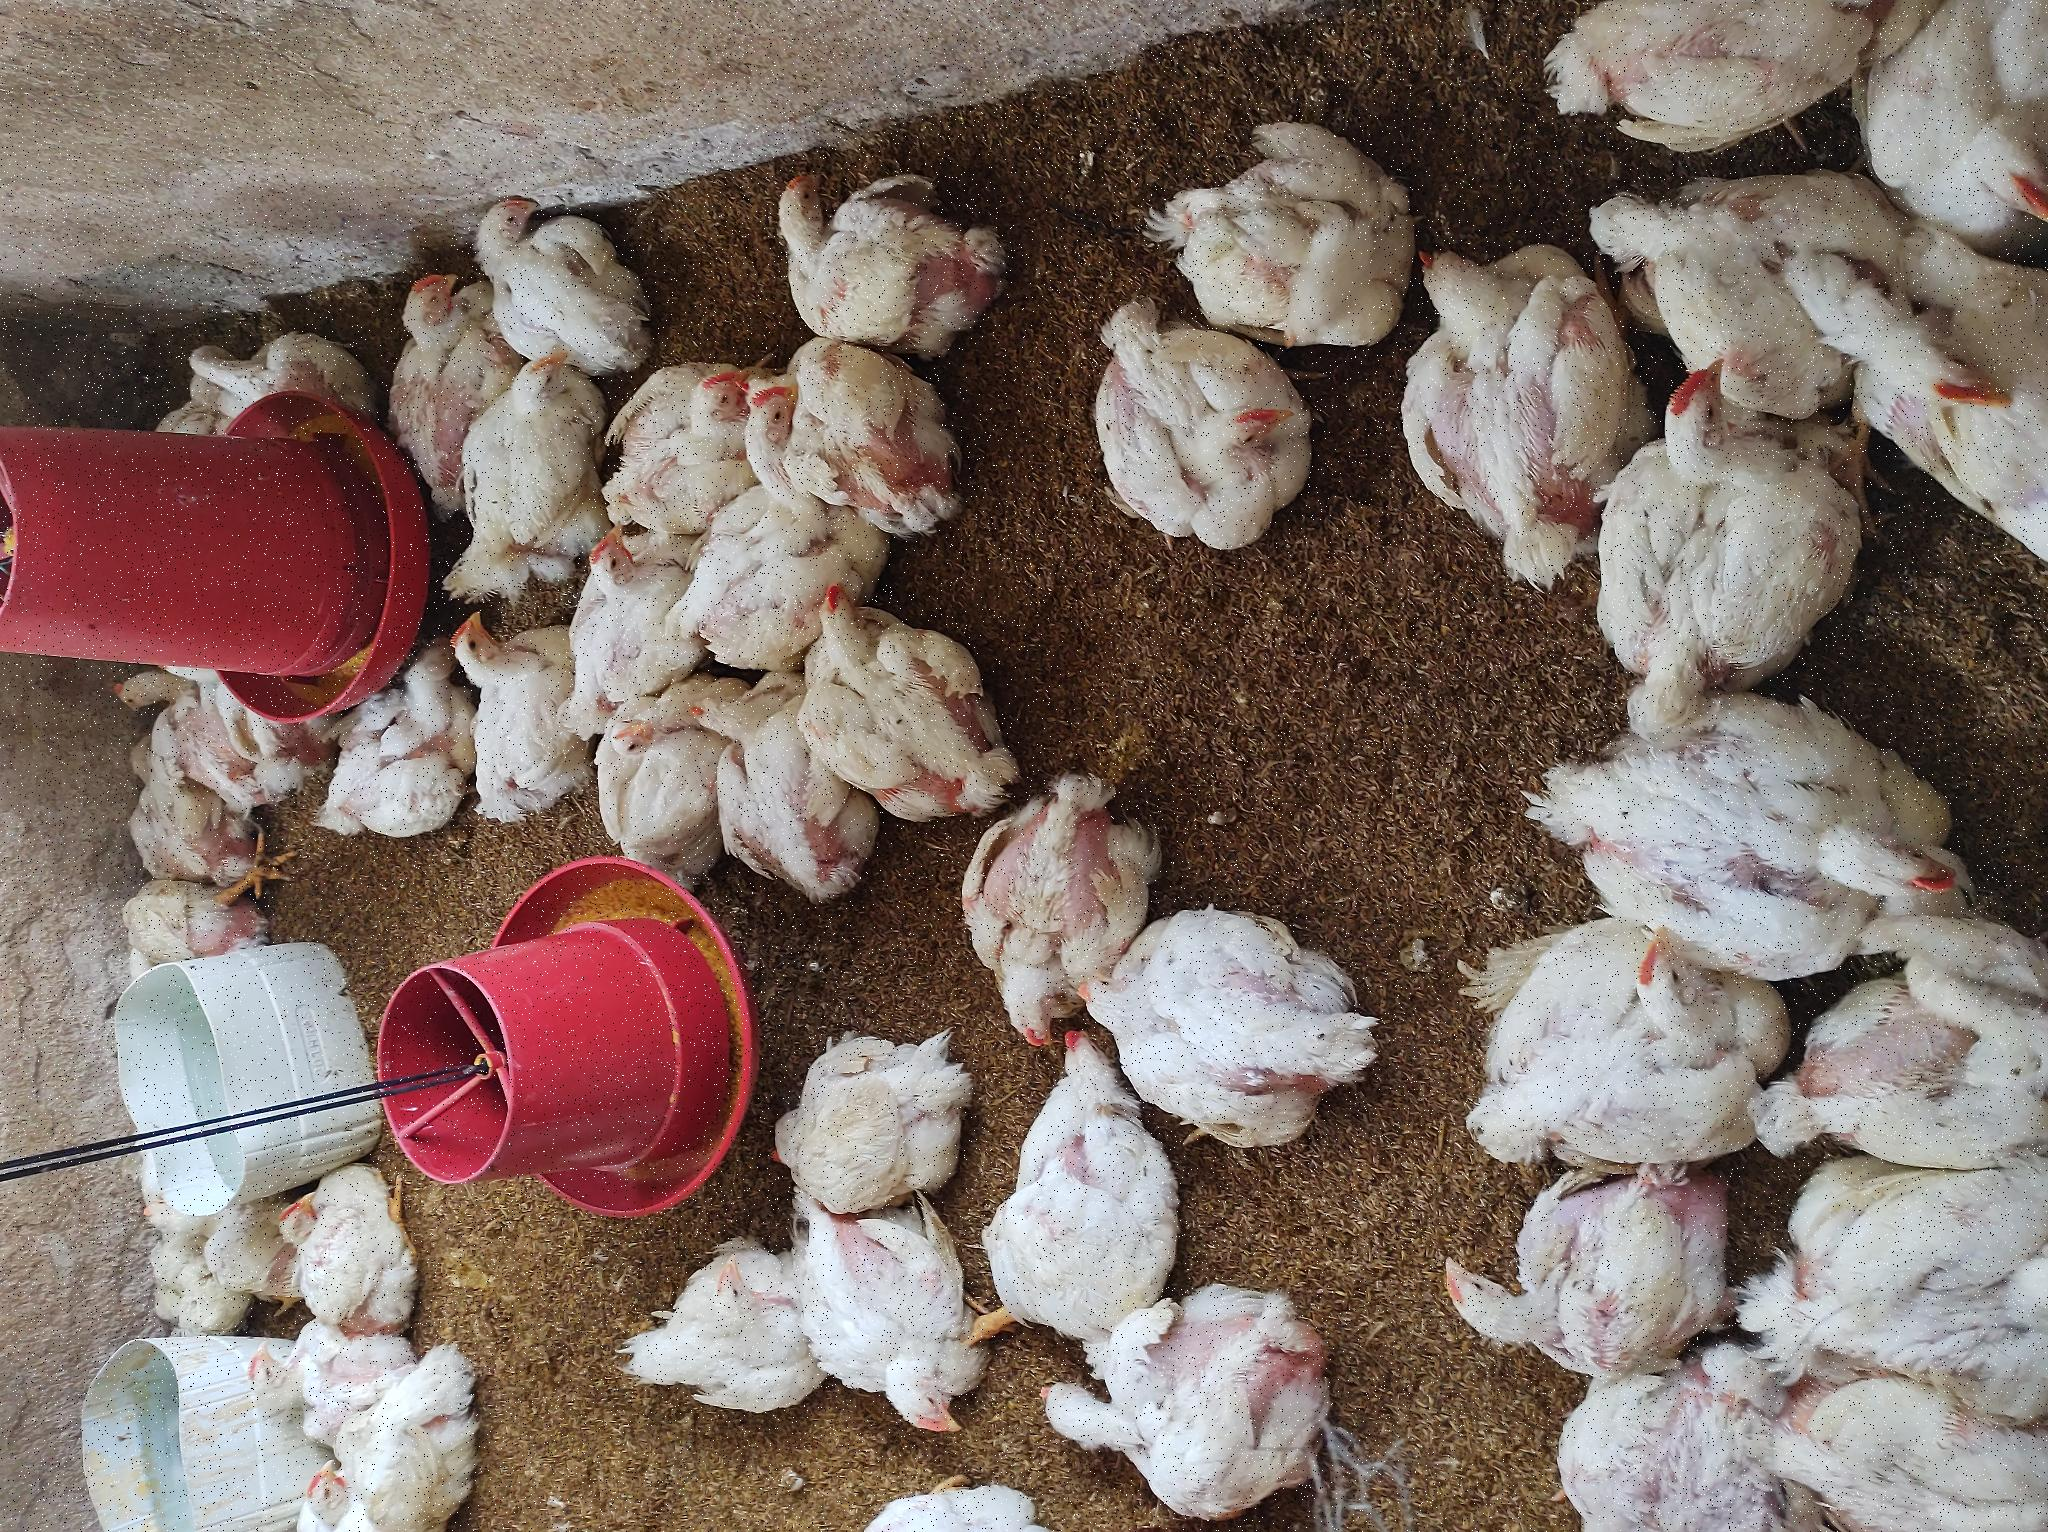Pollos: (151, 953, 502, 1178), (64, 1044, 265, 1342), (1199, 1147, 1414, 1416), (410, 1099, 624, 1368), (962, 1379, 1329, 1532), (960, 1073, 1199, 1294), (708, 808, 949, 1009), (473, 969, 755, 1141), (1191, 760, 1385, 1004), (635, 681, 883, 866), (85, 797, 323, 983), (986, 777, 1195, 975), (331, 774, 520, 978), (117, 618, 309, 817), (959, 438, 1182, 602), (668, 296, 882, 467), (1187, 476, 1351, 661), (718, 446, 928, 584), (2, 315, 162, 480), (631, 114, 769, 296), (208, 280, 383, 423), (1054, 394, 1276, 496), (156, 1432, 376, 1532), (545, 122, 660, 301), (1118, 171, 1202, 380), (1051, 620, 1182, 740), (381, 1464, 602, 1532), (819, 97, 906, 233), (726, 605, 849, 698), (907, 558, 1018, 661), (1026, 729, 1165, 806), (122, 232, 212, 340)
